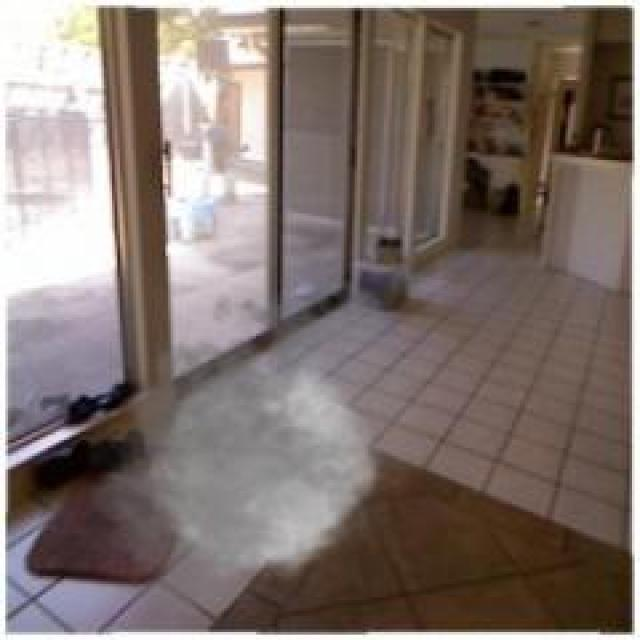Smoke: (100, 337, 382, 574)
